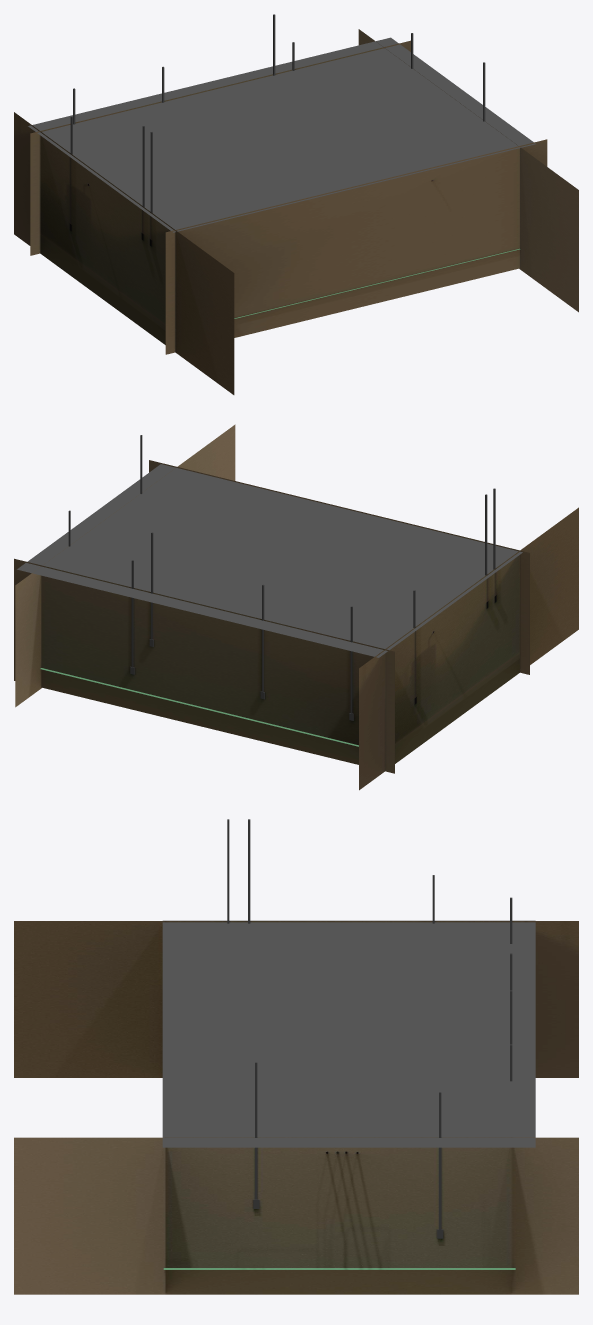
File: MLP_Ambiente.glb
3 renders of one model, top to bottom at view 1: azimuth 30°, elevation 25°; view 2: azimuth 150°, elevation 25°; view 3: azimuth 270°, elevation 25°, orthographic. The views are drawn at different scales.
Visible parts, largest first — view 1: Plane.006, Plane.002, Plane.004, Plane.003, Plane.001; view 2: Plane.006, Plane.001, Plane.004, Plane.003, Plane.002, Plane; view 3: Plane.003, Plane.006, Plane.004, Plane.
Part boxes in pixels (x1,y1,x2,y2): Plane.006: (28, 37, 535, 232); Plane.002: (165, 139, 547, 354); Plane.004: (14, 112, 234, 394); Plane.003: (358, 29, 578, 312); Plane.001: (30, 40, 410, 255); Plane.006: (17, 464, 522, 657); Plane.001: (14, 558, 394, 773); Plane.004: (359, 507, 578, 790); Plane.003: (15, 424, 235, 707); Plane.002: (149, 460, 529, 674); Plane: (40, 668, 358, 746); Plane.003: (14, 1137, 578, 1294); Plane.006: (162, 920, 535, 1147); Plane.004: (14, 921, 578, 1077); Plane: (163, 1268, 515, 1269).
Bounding box in the file's own units: 14.51 × 8.06 × 14.51.
28 materials, 17 textured.
